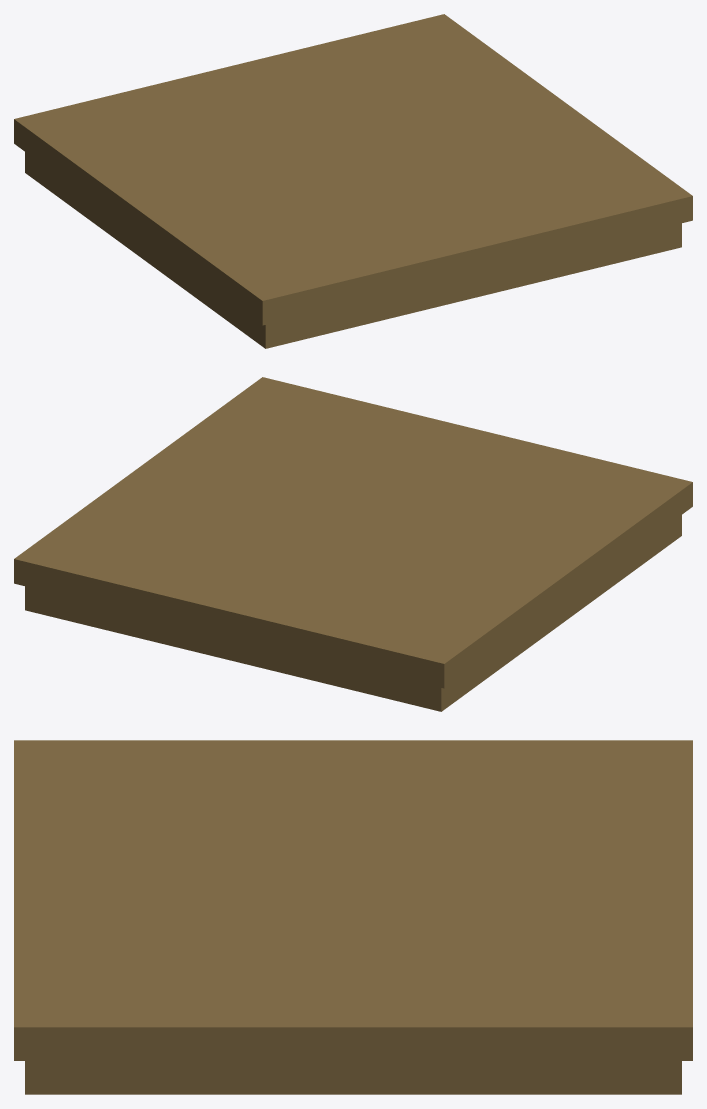
File: Itr_Table6_Top_01.FBX
3 views of the same model, one above another, from view 1: azimuth 30°, elevation 25°; view 2: azimuth 150°, elevation 25°; view 3: azimuth 270°, elevation 25° (orthographic). The views are drawn at different scales.
Visible parts, largest first — view 1: Itr_Table6_Top_01; view 2: Itr_Table6_Top_01; view 3: Itr_Table6_Top_01.
Boxes of the visible parts, x1,y1,x2,y2 form: Itr_Table6_Top_01: [14, 14, 692, 348]; Itr_Table6_Top_01: [14, 377, 692, 711]; Itr_Table6_Top_01: [14, 740, 692, 1094].
Size of the model in its own units: 40.13 by 4.69 by 40.15.
